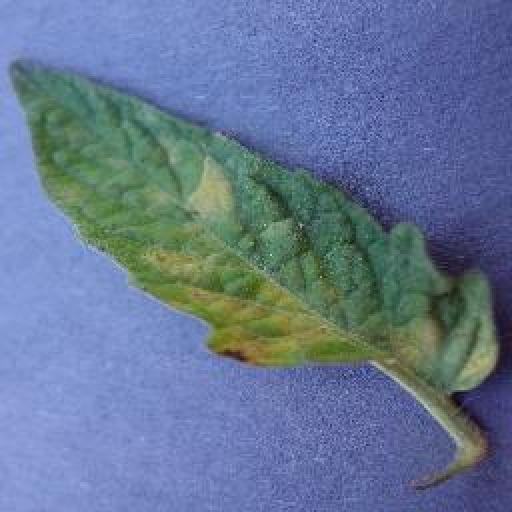Leaf Mold: (8, 58, 502, 398)
